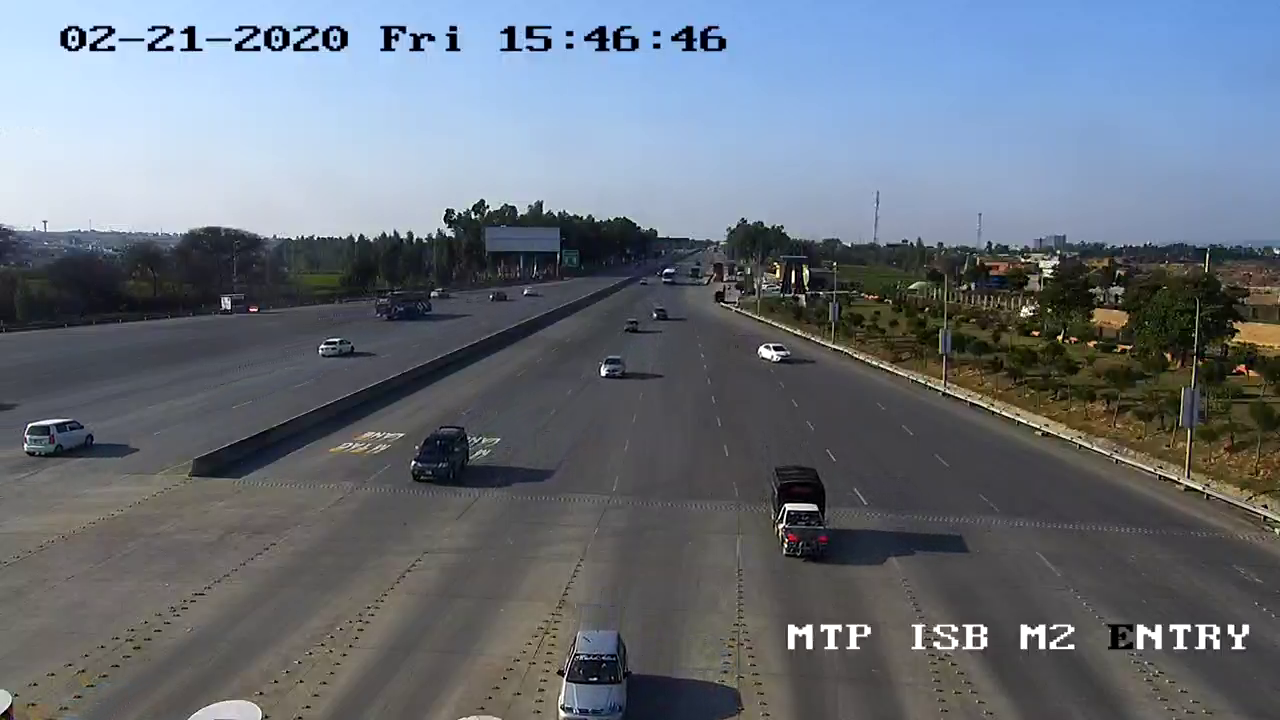f1: (542, 621, 646, 718), (399, 422, 479, 491)
f2: (757, 460, 842, 575)
